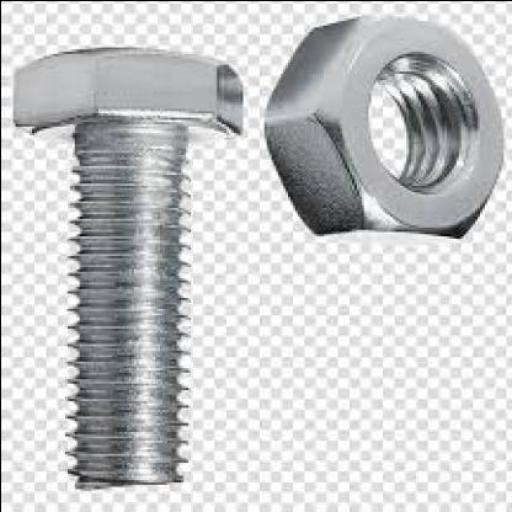metal: (12, 48, 239, 490), (258, 22, 503, 240)
